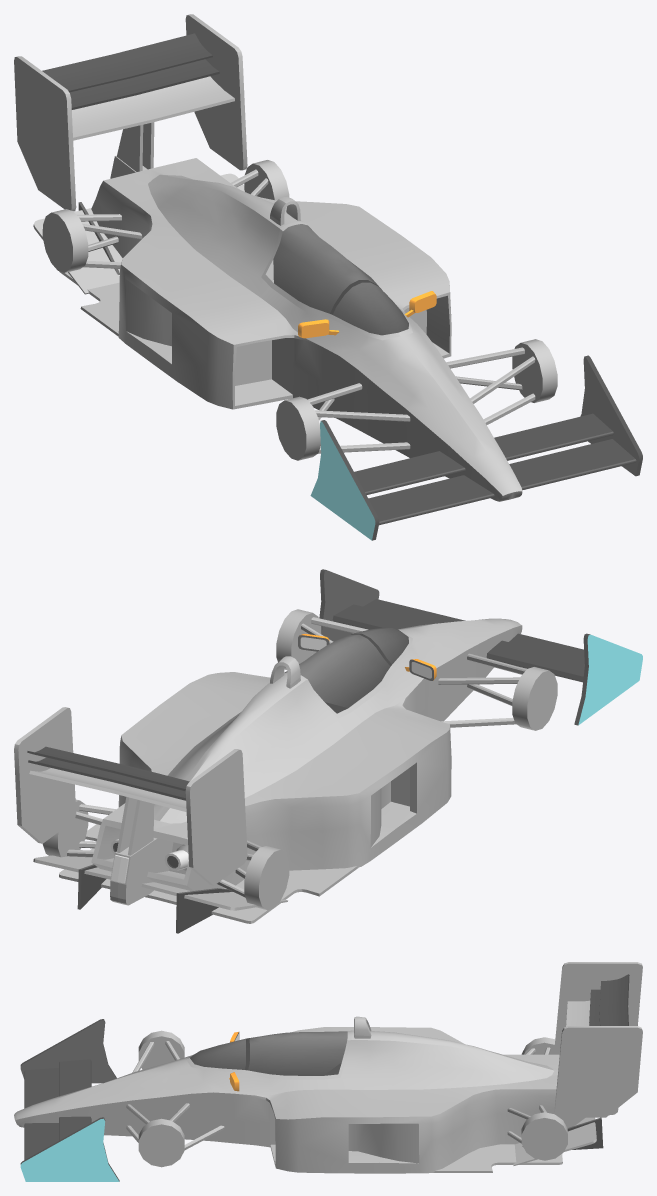
Rendered from formula-car.glb.
The picture shows the model from 3 angles, top to bottom: view 1: azimuth 30°, elevation 25°; view 2: azimuth 150°, elevation 25°; view 3: azimuth 270°, elevation 25°; orthographic projection. The views are drawn at different scales.
Visible parts, largest first — view 1: frame, body; view 2: frame, body; view 3: frame, body.
Boxes of the visible parts, x1,y1,x2,y2 form: frame: [14, 14, 557, 501]; body: [42, 33, 642, 540]; frame: [14, 609, 557, 923]; body: [27, 569, 642, 933]; frame: [14, 962, 642, 1173]; body: [20, 974, 629, 1181].
Size of the model in its own units: 1.72 by 1.1 by 4.58.
Materials: 5 (3 with a texture image).
